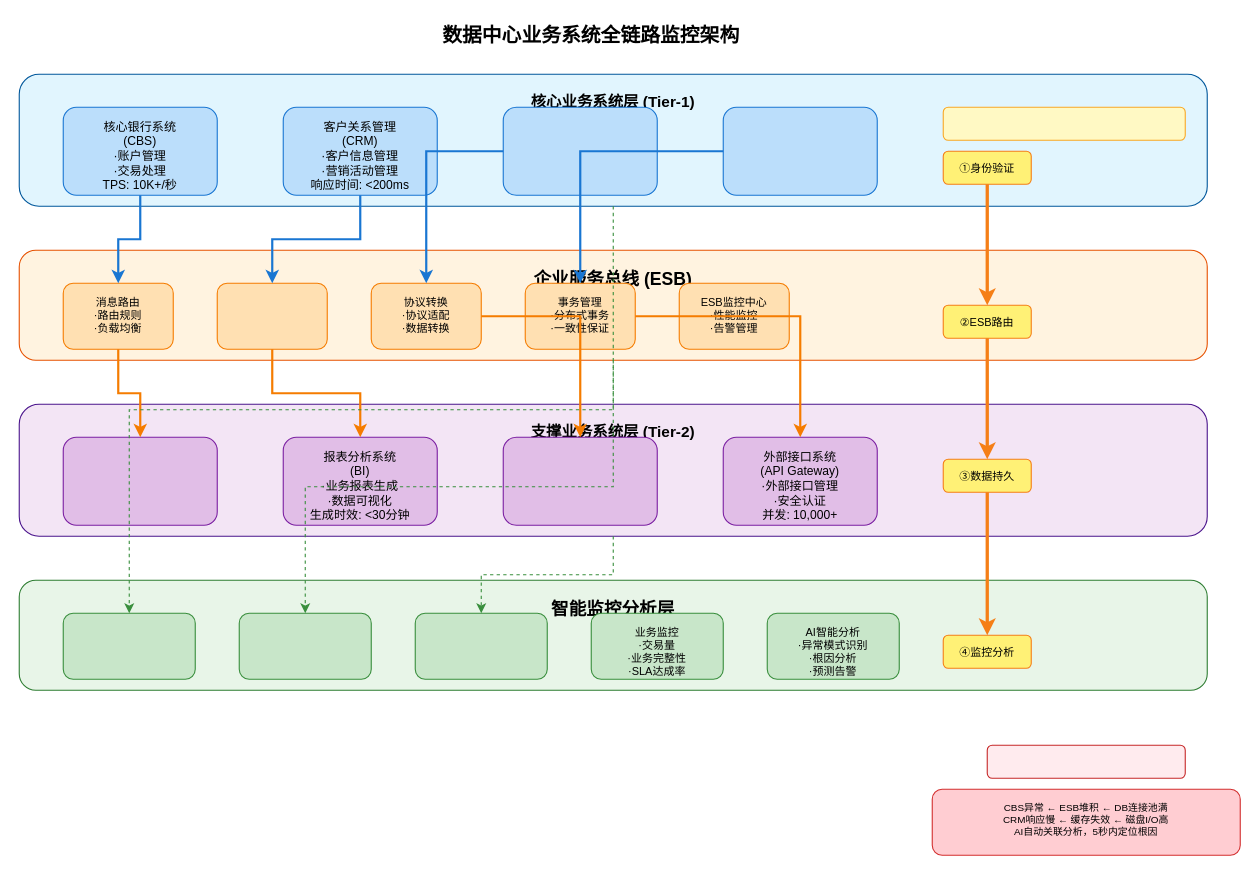
Image size: 1260x875. Some labels were removed from this diagram. The shapes that lost their labels are listed below. From the top down, each one's centre as x and y in pixels, then its label:
the point at 1063,123: 客户开户业务全链路示例
the point at 579,150: 风险控制系统 (RMS) ·实时风险评估 ·反洗钱监控 准确率: 99.99%
the point at 799,150: 财务管理系统 (FMS) ·会计核算 ·财务报表 准确性: 99.9%
the point at 271,315: 服务编排 ·编排流程 ·异常处理
the point at 139,480: 数据仓库系统 (DWH) ·数据ETL处理 ·历史数据存储 数据量: TB级/日
the point at 579,480: 监管报送系统 (RRS) ·合规报告 ·监管接口 及时性: T+1
the point at 128,645: 性能监控 ·吞吐量 ·响应时间 ·并发连接数
the point at 304,645: 质量监控 ·成功率 ·错误率 ·数据完整性
the point at 480,645: 可靠性监控 ·可用性 ·故障恢复 ·容错能力
the point at 1085,761: 跨系统关联分析
